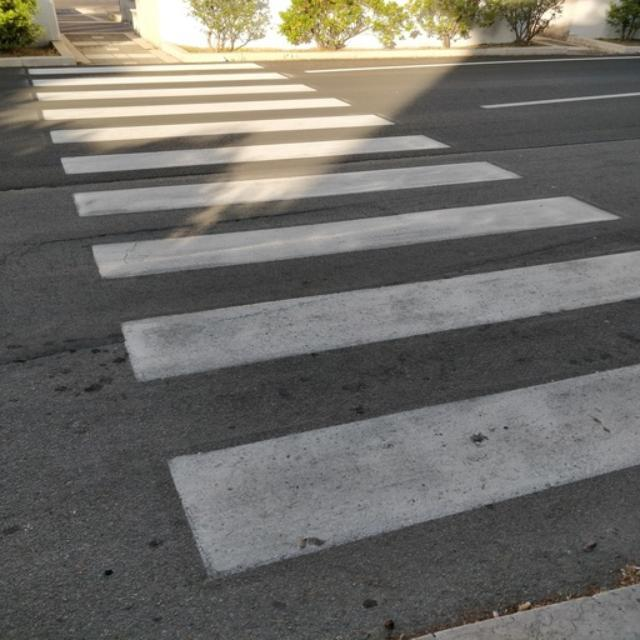sidewalk: (26, 51, 640, 640)
